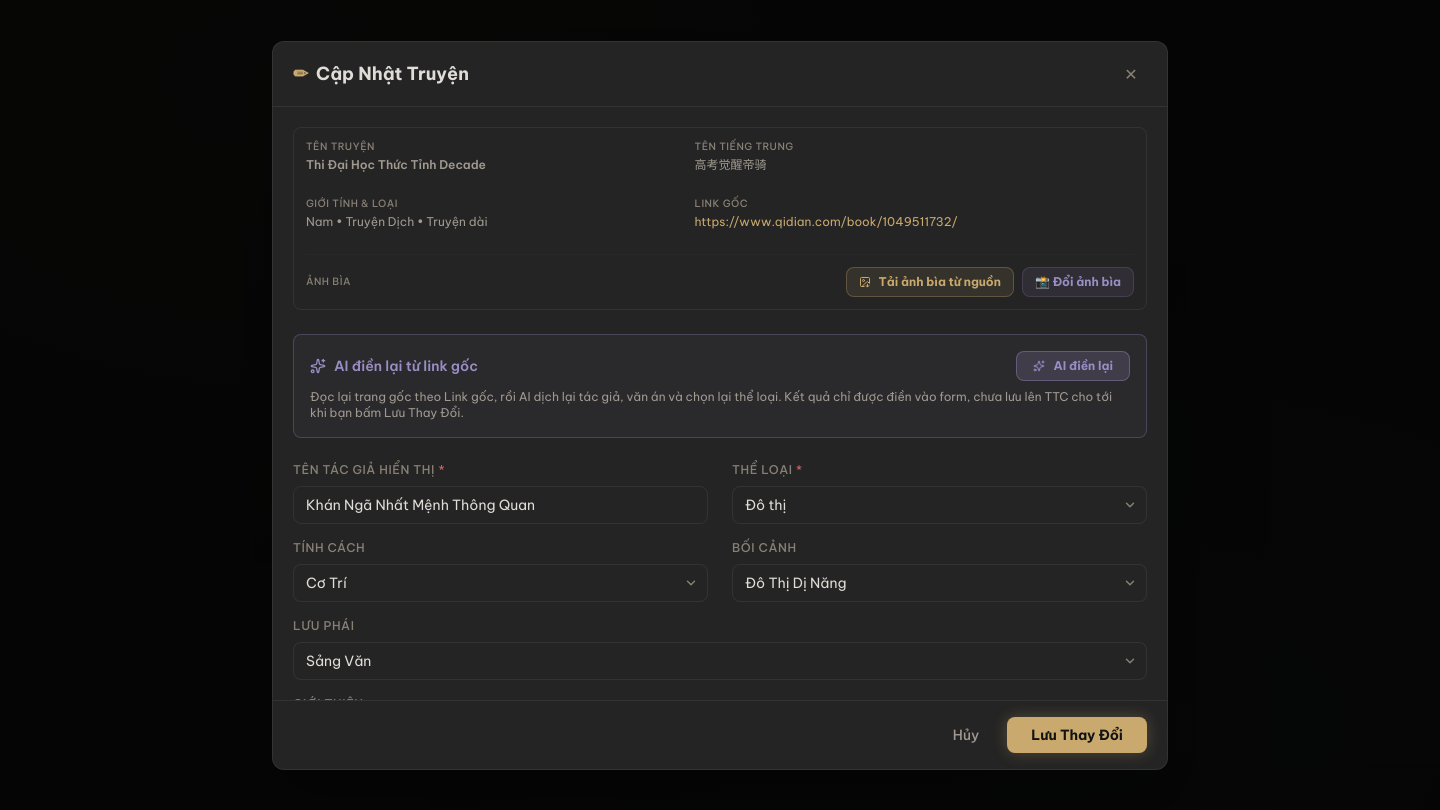
Test case: EditBookModal AI re-fill › shows the error and keeps the form as it was when the source cannot be read
Click the button "AI điền lại" at (1073, 366), box [1016, 351, 1130, 381]
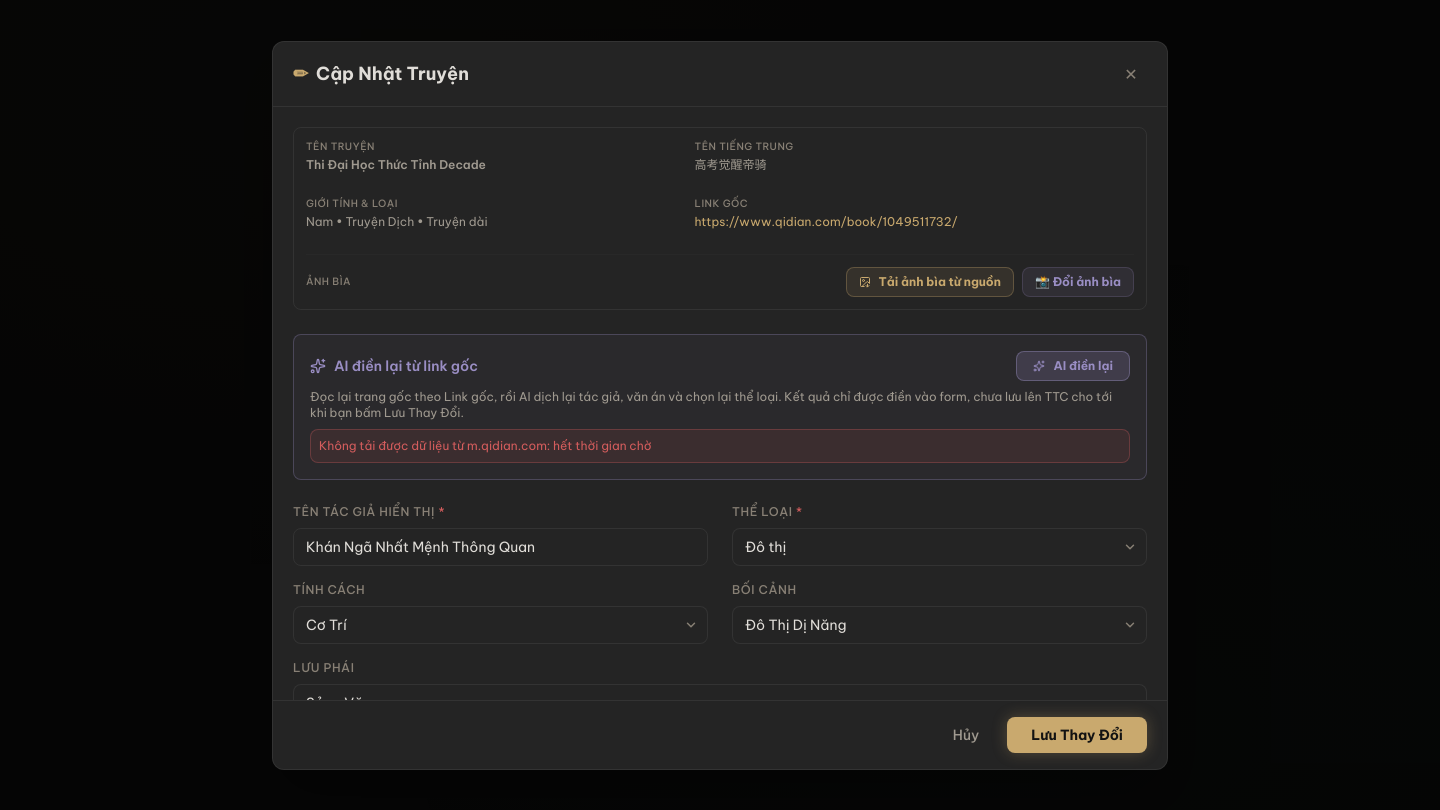
Now the message reads "Không tải được dữ liệu từ m.qidian.com: hết thời gian chờ", box [319, 438, 652, 453]
